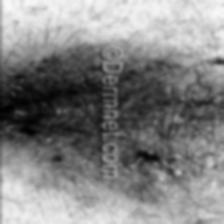Non-Cancerous Skin Condition: (8, 30, 224, 197)
